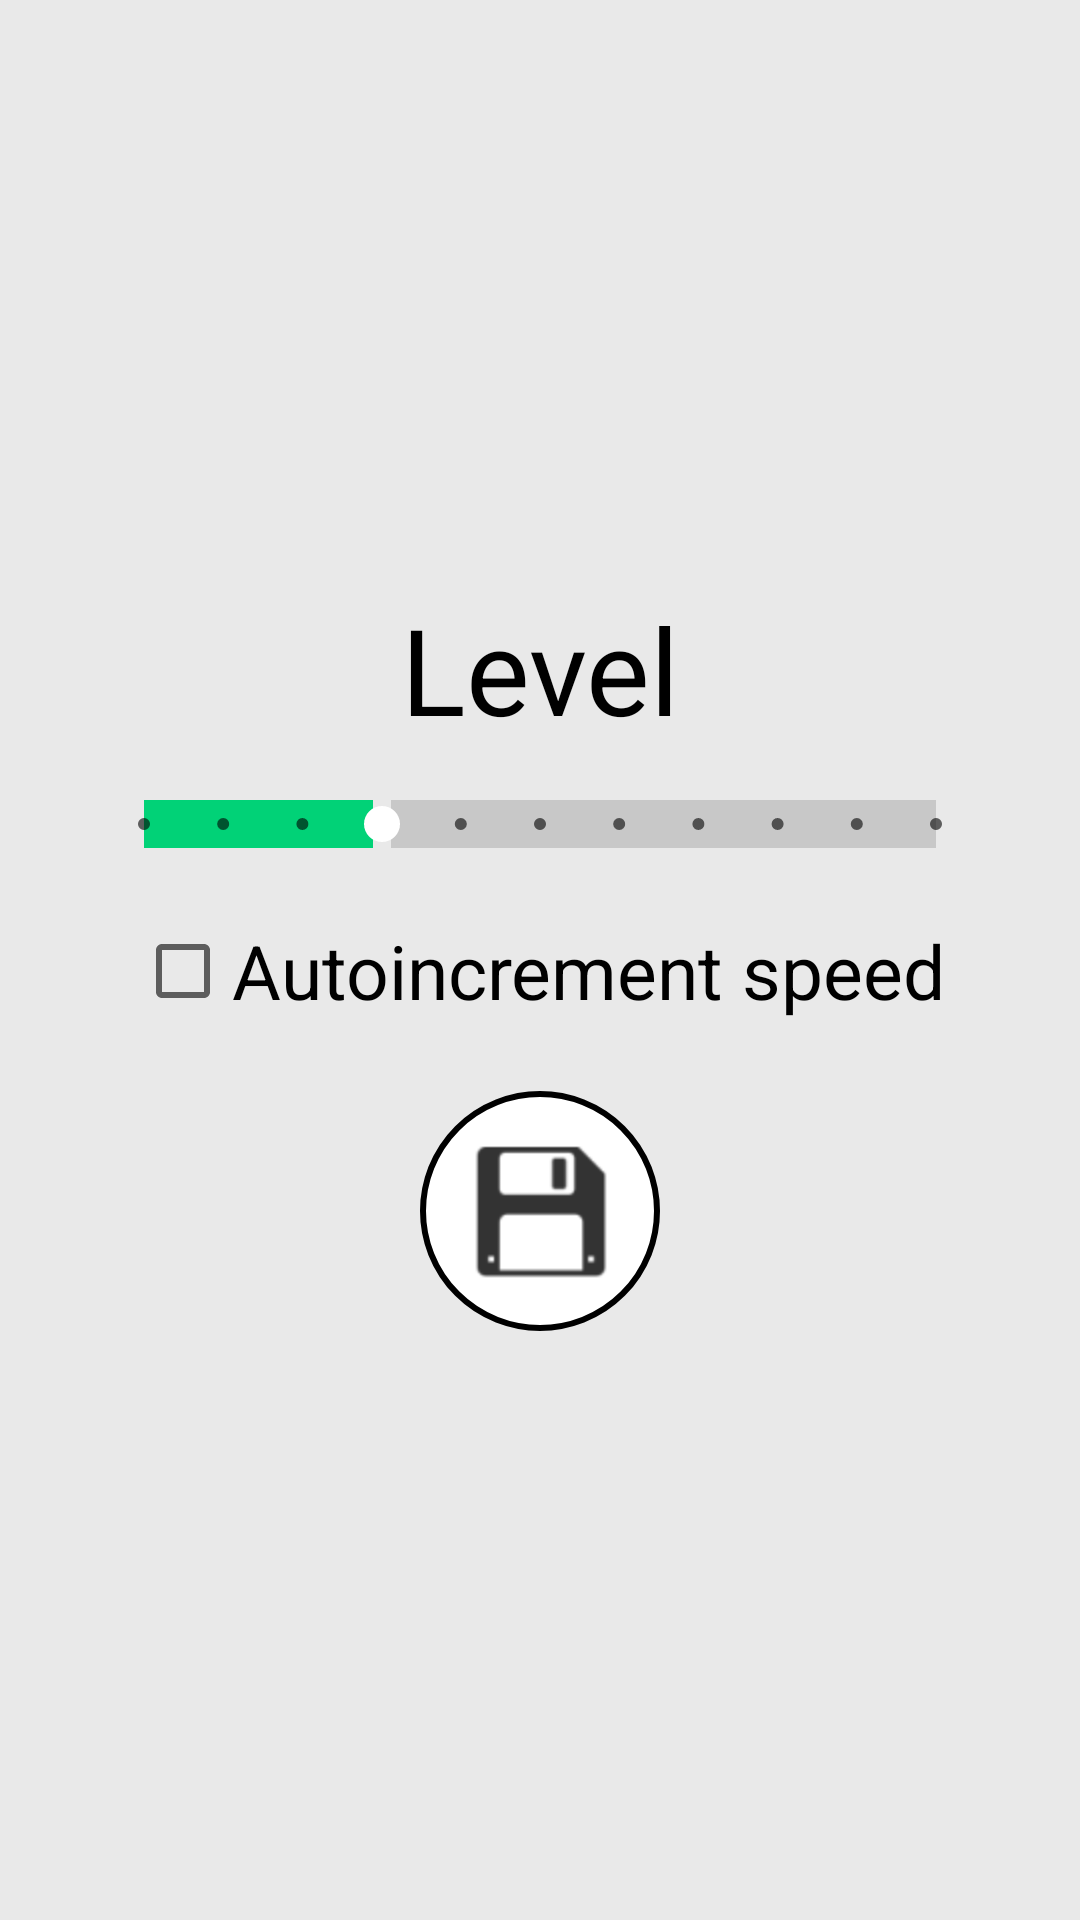

Locate icon controls on the screen. Image size 1080px×1920px, boxes as (x1, y1, x2, y2).
Save changes: (420, 1091, 660, 1331)
